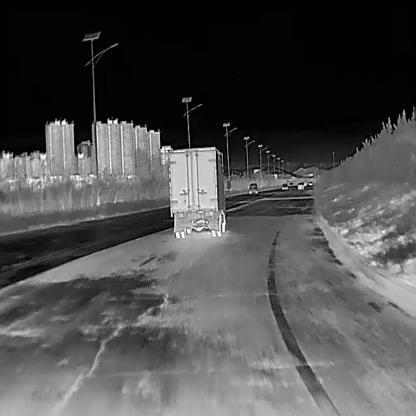car: (248, 182, 258, 193), (296, 181, 304, 189), (281, 181, 288, 189), (288, 180, 294, 187), (308, 180, 312, 184)
truck: (166, 146, 230, 238)
